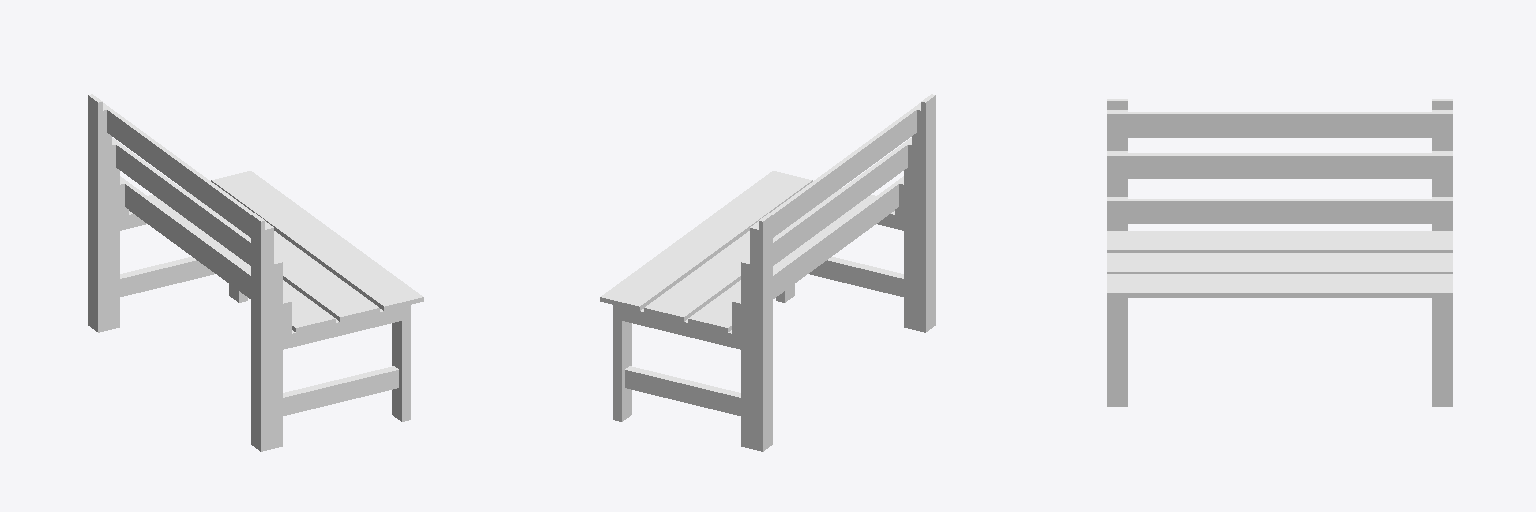
Rendered from realisticbench.obj.
3 renders of one model, left to right at view 1: azimuth 30°, elevation 25°; view 2: azimuth 150°, elevation 25°; view 3: azimuth 270°, elevation 25°, orthographic.
Parts seen in each view (by area): view 1: realisticbench; view 2: realisticbench; view 3: realisticbench.
Part boxes in pixels (x1,y1,x2,y2): realisticbench: (88, 94, 423, 451); realisticbench: (600, 94, 935, 451); realisticbench: (1107, 99, 1452, 406).
Size of the model in its own units: 37 by 51 by 68.